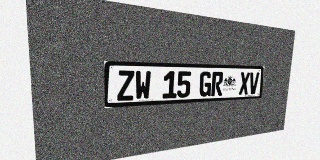1: (162, 71, 177, 99)
5: (177, 71, 191, 98)
G: (199, 71, 212, 97)
R: (211, 72, 223, 96)
V: (248, 72, 259, 94)
W: (135, 70, 151, 100)
X: (239, 72, 250, 95)
Z: (117, 70, 134, 101)
